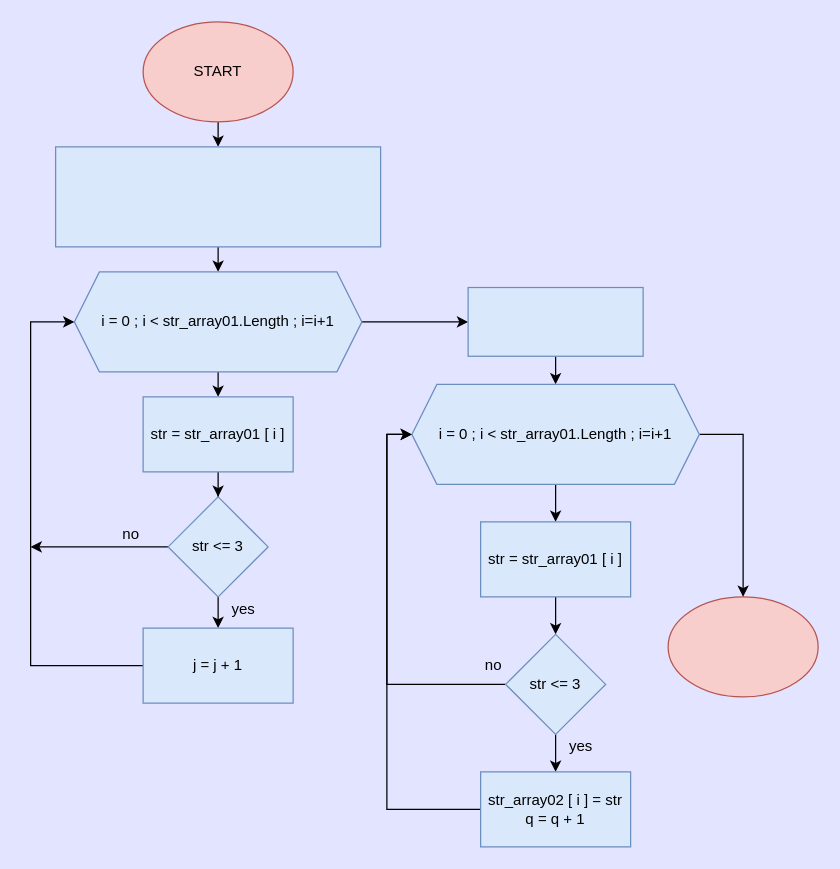
This 840x869 diagram has some shape labels left out. Here are the shapes that lost their labels. From the top down, the box of each, then its label:
(54, 146, 381, 247): str_array01 [ ] = {"hello","2","world",":-)"} j = 0
(467, 286, 643, 356): str_array02 [ j ] q = 0
(667, 596, 818, 697): STOP
